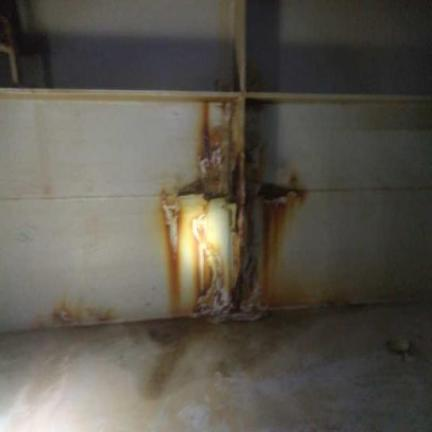karat: (201, 98, 243, 197)
